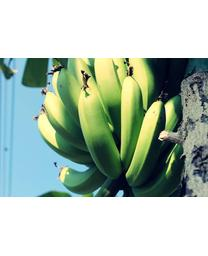banana: (35, 59, 187, 194)
